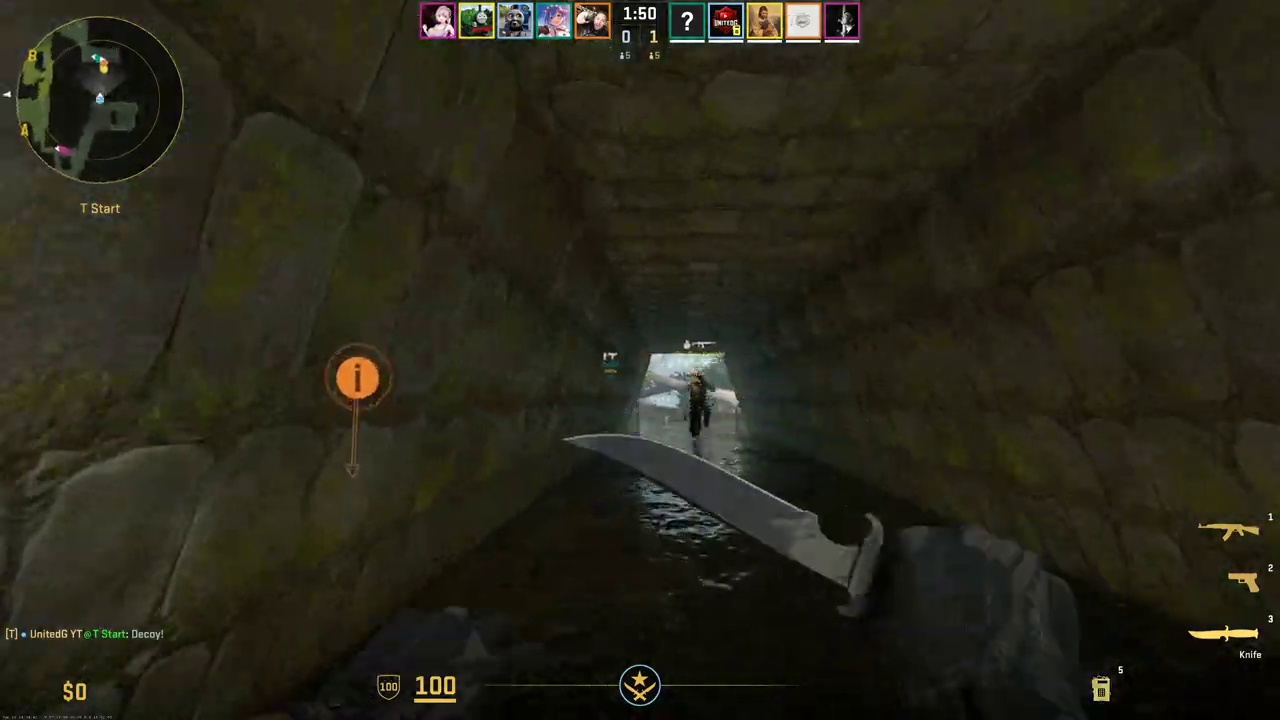Terrorist: (687, 376, 709, 438)
